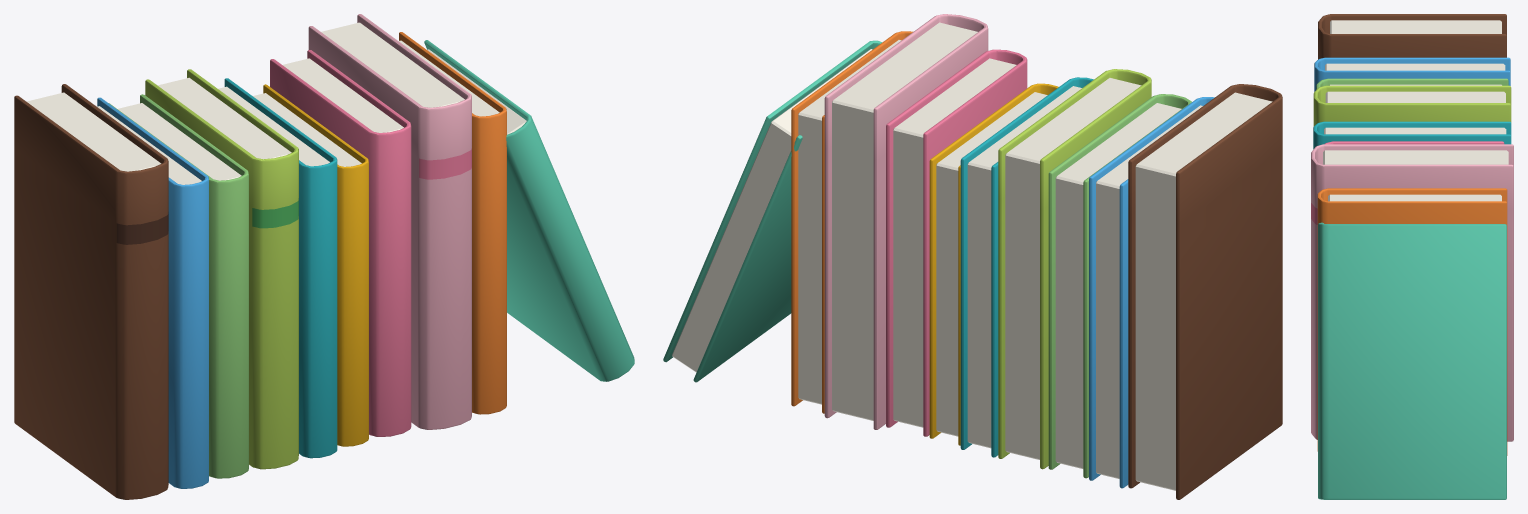
File: livros_fileira_grande.glb
3 views of the same model, side by side, from view 1: azimuth 30°, elevation 25°; view 2: azimuth 150°, elevation 25°; view 3: azimuth 270°, elevation 25° (orthographic). The views are drawn at different scales.
Parts seen in each view (by area): view 1: livros_fileira_grande; view 2: livros_fileira_grande; view 3: livros_fileira_grande.
Boxes of the visible parts, x1,y1,x2,y2 form: livros_fileira_grande: (14, 14, 634, 499); livros_fileira_grande: (663, 14, 1282, 499); livros_fileira_grande: (1311, 14, 1513, 499).
Bounding box in the file's own units: 0.4455 × 0.27 × 0.1762.
1 material, 1 textured.
